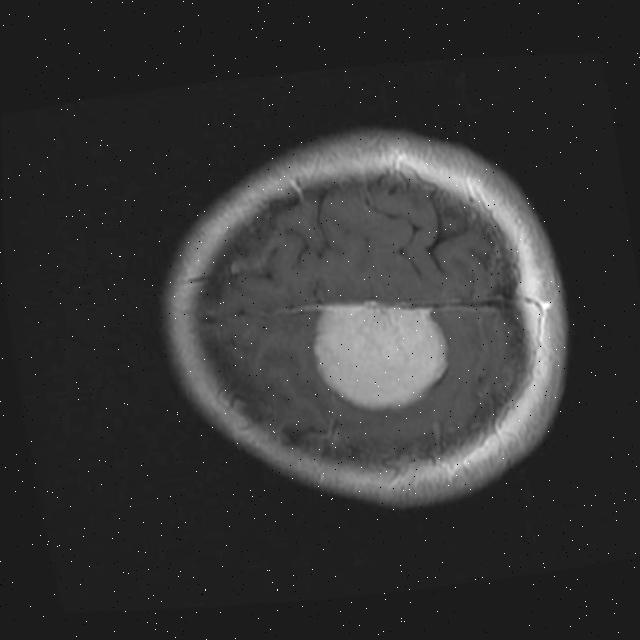Meningioma: (294, 280, 458, 425)
